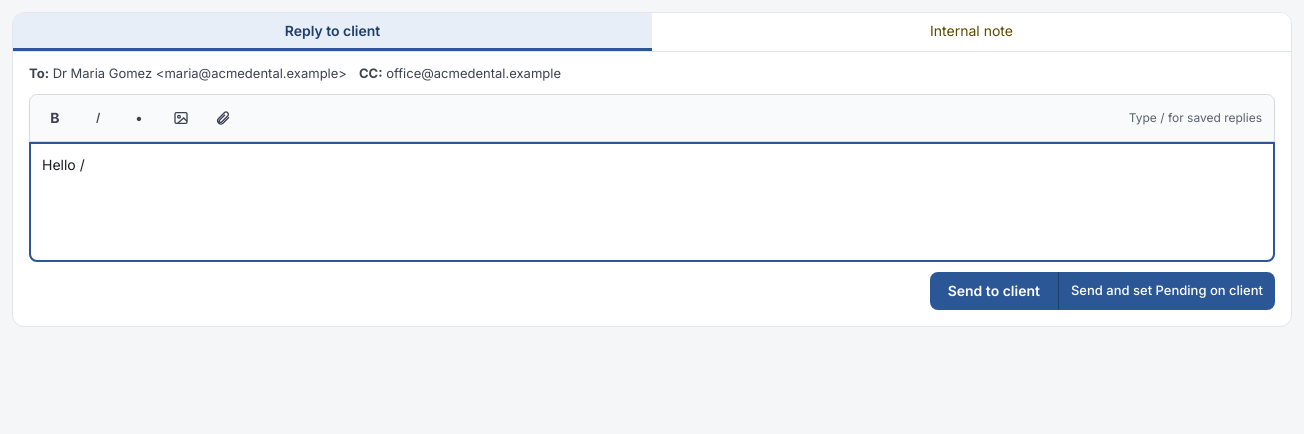
Scenario: Composer › typing "/" opens saved replies; arrows and Enter insert the filled-in reply
Clear the field named "Reply text" at (652, 202), box left=29, top=142, right=1275, bottom=262
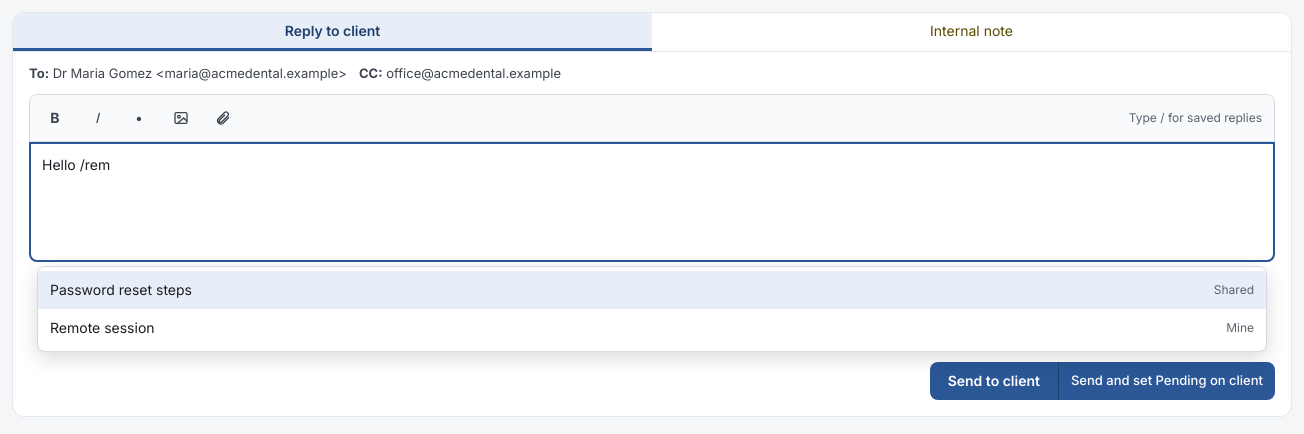
Result: the number of options is 2 at left=38, top=270, right=1266, bottom=308; left=50, top=319, right=1254, bottom=336
Result: the text "Shared" is shown at left=1214, top=280, right=1254, bottom=298
Clear the field named "Reply text" at (652, 202), box left=29, top=142, right=1275, bottom=262
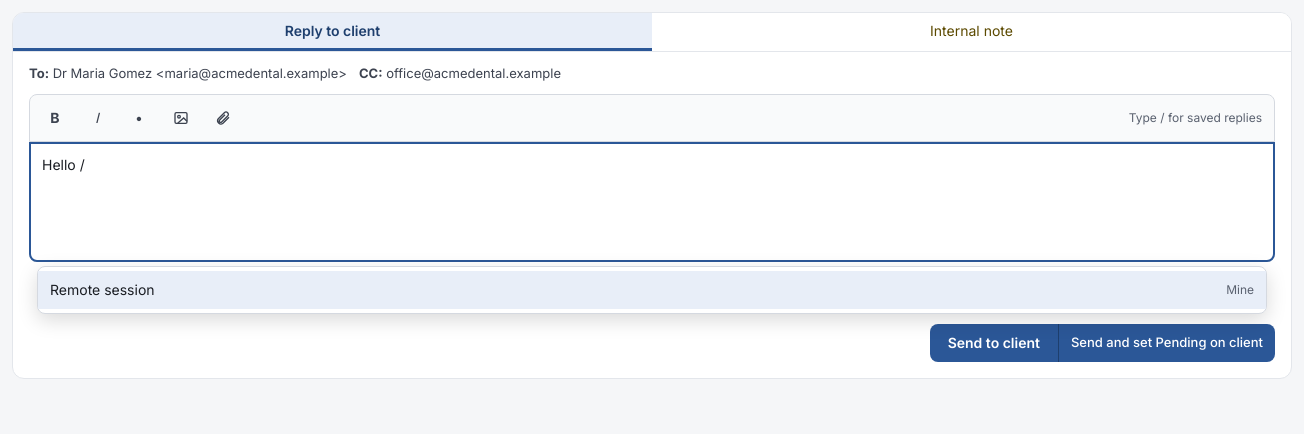
Result: the number of options is 1 at left=38, top=270, right=1266, bottom=308
Clear the field named "Reply text" at (652, 202), box left=29, top=142, right=1275, bottom=262
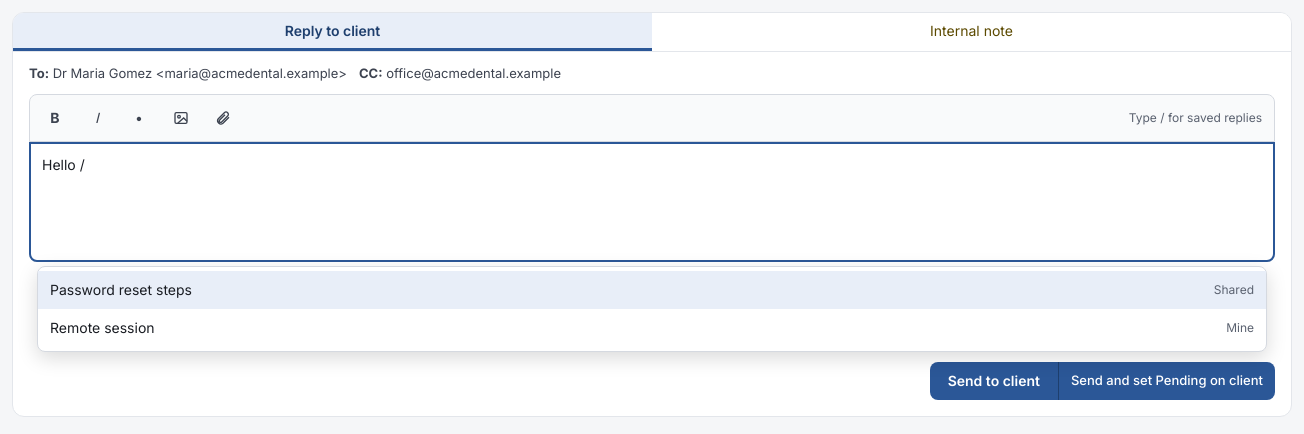
Press ArrowDown in the field named "Reply text", box left=29, top=142, right=1275, bottom=262
Press ArrowUp in the field named "Reply text", box left=29, top=142, right=1275, bottom=262
Press Enter in the field named "Reply text", box left=29, top=142, right=1275, bottom=262
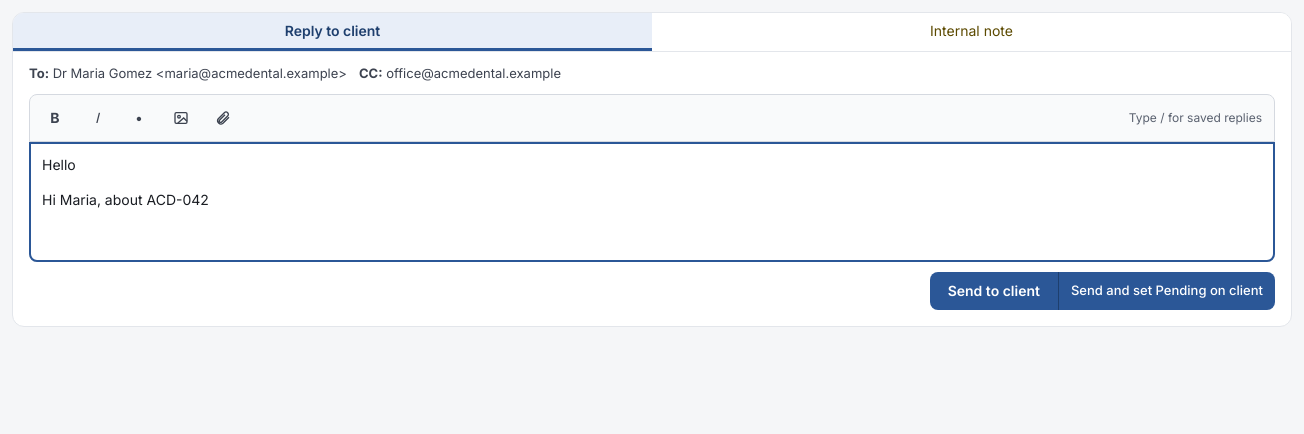
Expected: the field labelled "Reply text" does not show "/"
Result: the list is gone
